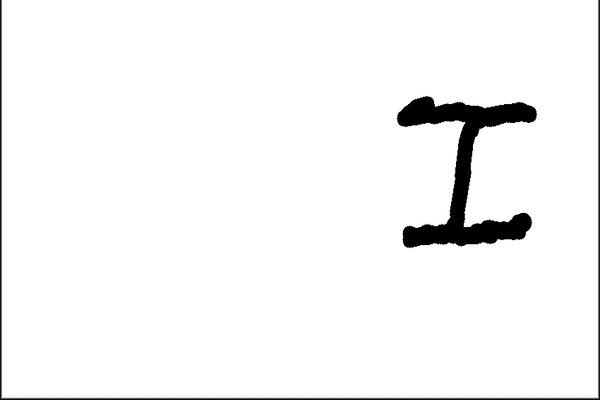i: (384, 91, 540, 253)
